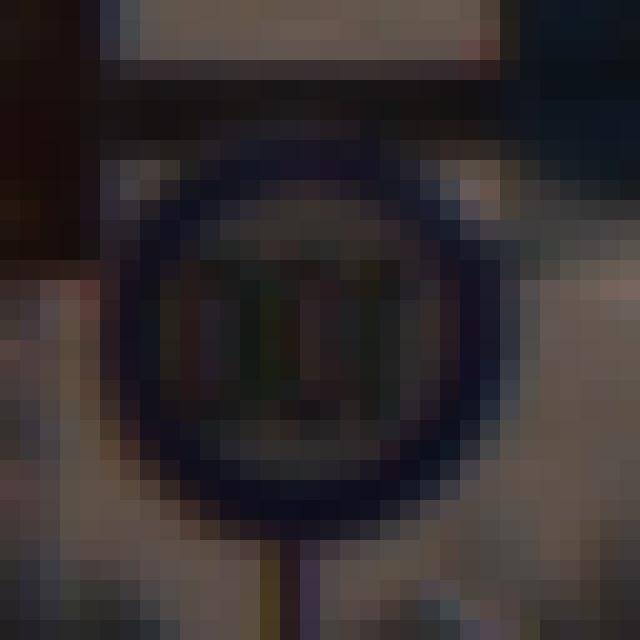SPEED LIMIT 100: (87, 152, 527, 538)
